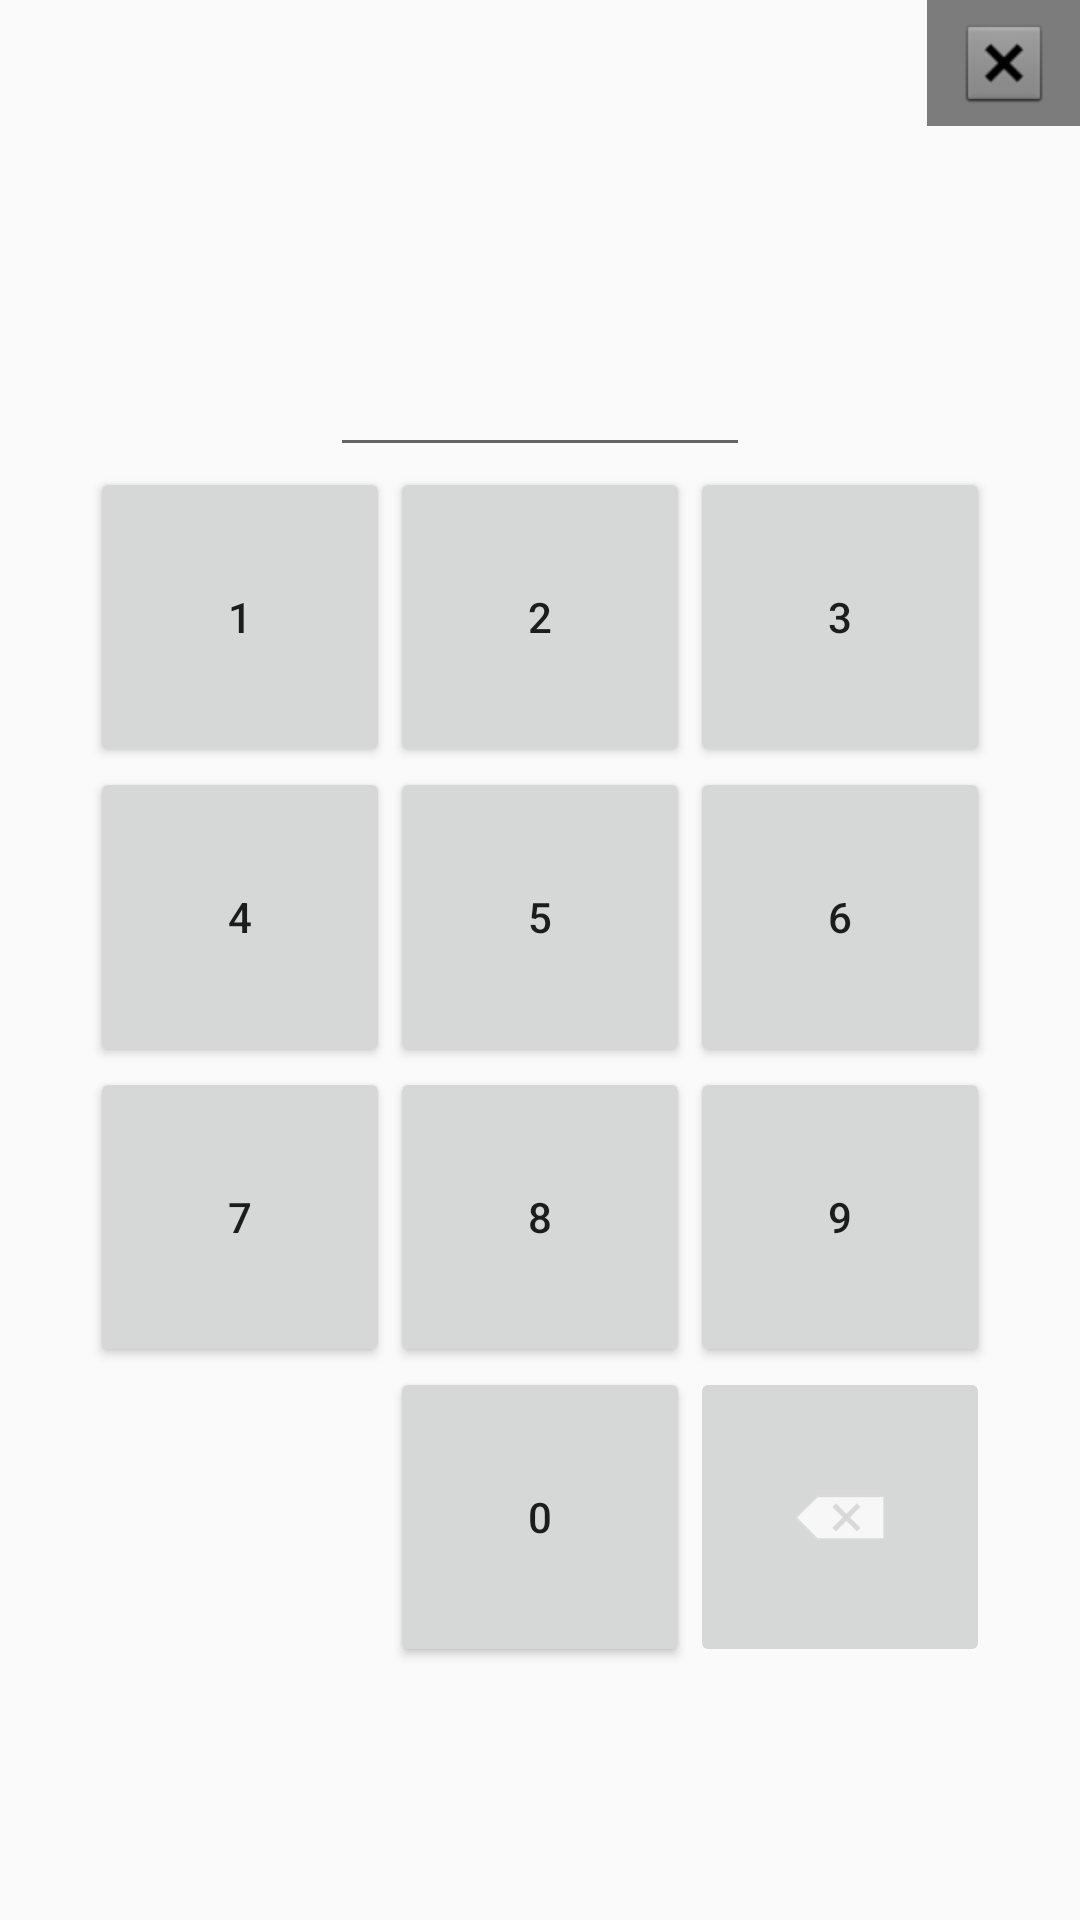

Named icons in this screenshot (1080x1920) and their centers, (x,y):
delete: (840,1517)
